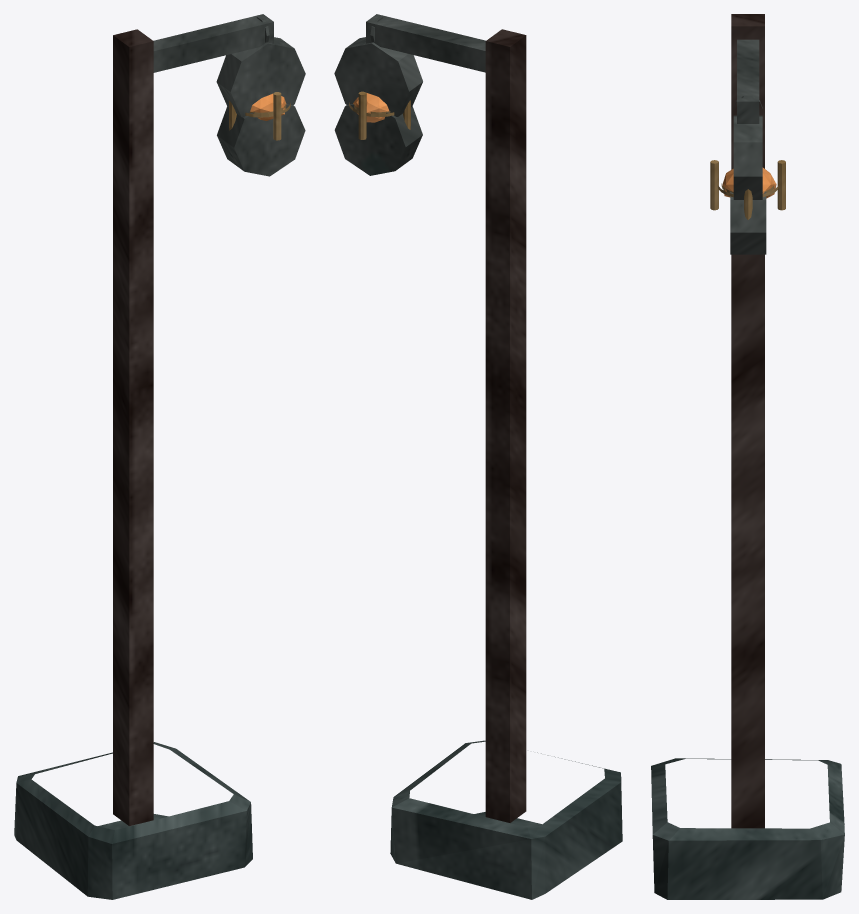
The model's file is 0704_lantern_post_04.glb.
3 views of the same model, side by side, from view 1: azimuth 30°, elevation 25°; view 2: azimuth 150°, elevation 25°; view 3: azimuth 270°, elevation 25° (orthographic). The views are drawn at different scales.
Parts seen in each view (by area): view 1: wood_dark, stone_dark, iron, brass; view 2: wood_dark, stone_dark, iron, brass; view 3: wood_dark, stone_dark, iron, brass, amber.
Boxes of the visible parts, x1,y1,x2,y2 form: wood_dark: (113,29,153,825); stone_dark: (14,742,252,899); iron: (153,14,305,176); brass: (229,92,290,140); wood_dark: (485,29,526,822); stone_dark: (390,740,622,899); iron: (334,14,485,175); brass: (349,91,410,139); wood_dark: (731,14,764,828); stone_dark: (651,758,844,899); iron: (730,39,766,254); brass: (710,160,785,219); amber: (722,167,776,198).
Bounding box in the file's own units: 1.31 × 4.16 × 0.8644.
Materials: 5 (5 with a texture image).
